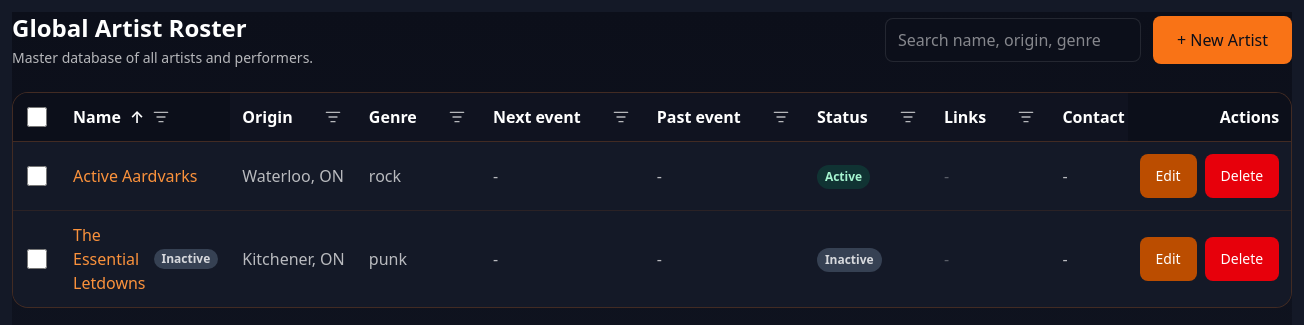
Test: RosterTab — inactive profile visibility (#619) › the Status column filter, checked to Active, hides inactive profiles
This screenshot has width=1304, height=325.
Click the button named "Filter by Status": [908, 117] box top-left (896, 105), bottom-right (920, 129)
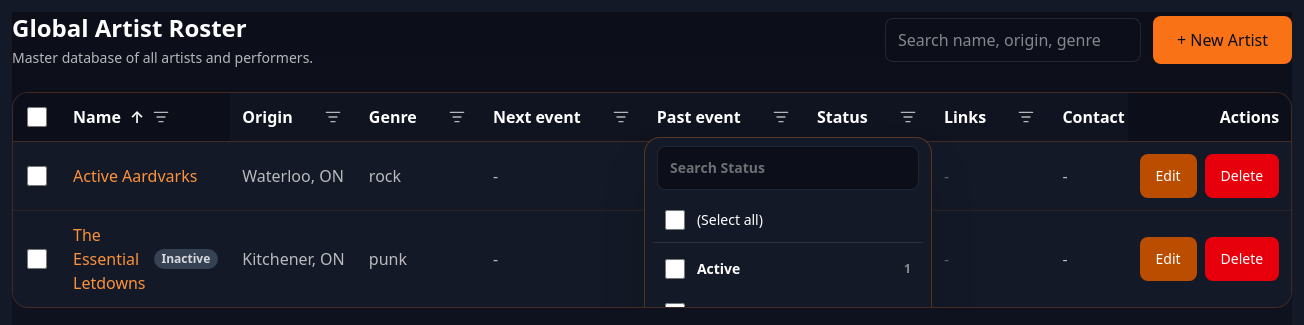
Click the checkbox named "Active — 1": [675, 269] box top-left (665, 259), bottom-right (685, 279)
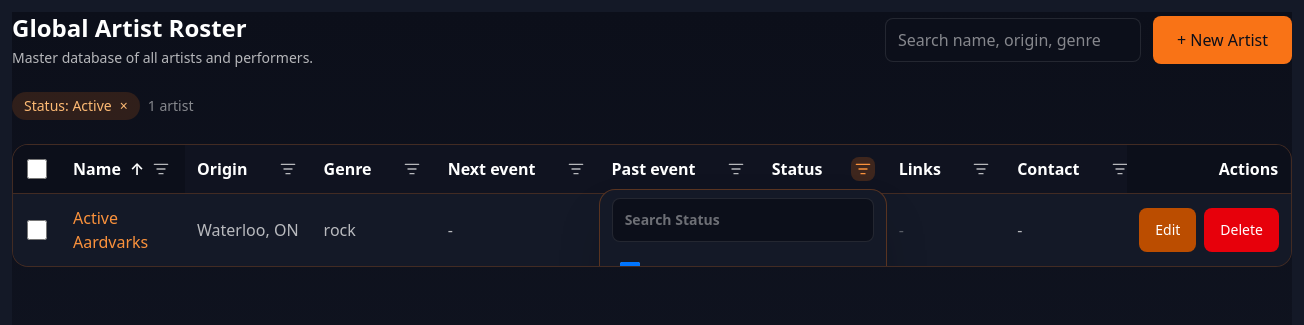
Check: the link "Active Aardvarks" is shown, box top-left (73, 207), bottom-right (148, 253)
Check: no links "The Essential Letdowns" are shown
